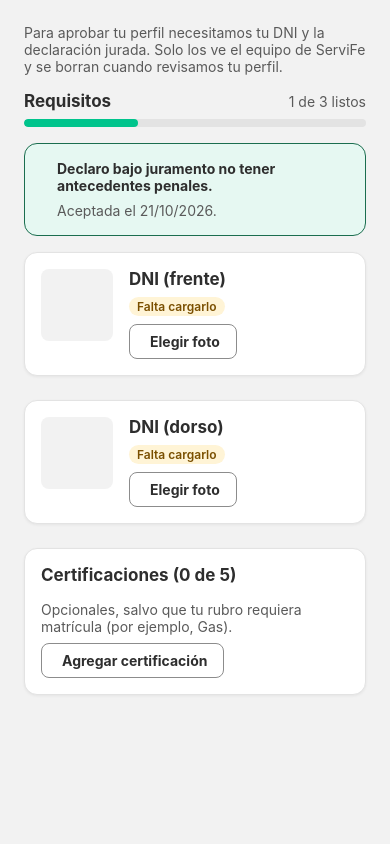
Test: DocumentosScreen › una imagen de más de 5 MB no se sube y se avisa
The width and height of the screenshot is (390, 844).
Click the button "Elegir foto" below "DNI (dorso)" at (183, 490), box [129,472,237,507]
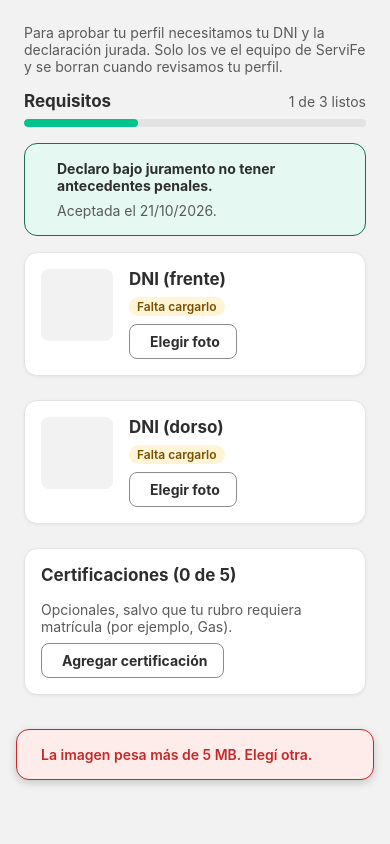
expect the text "La imagen pesa más de 5 MB. Elegí otra." is shown: met, box [41,746,357,763]
